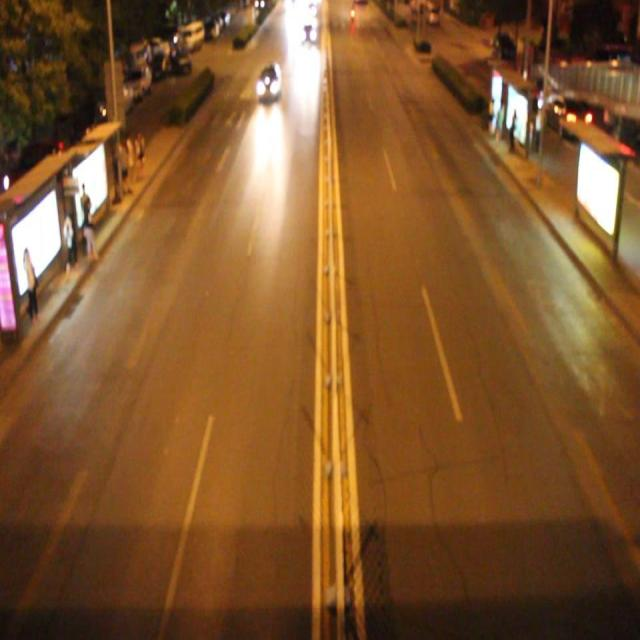car: (256, 62, 282, 101)
